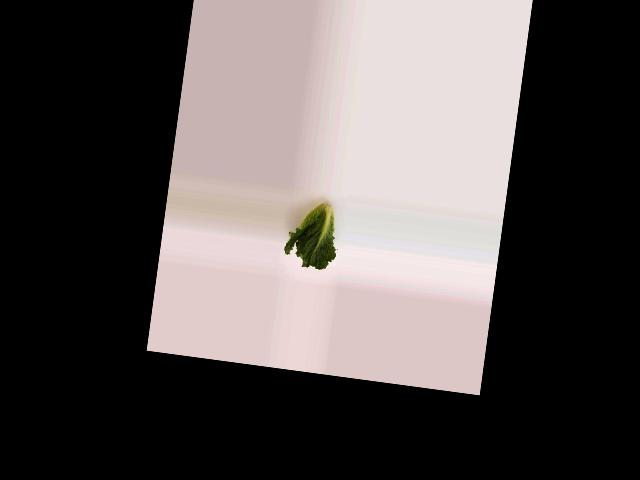lettuce: (284, 191, 345, 273)
